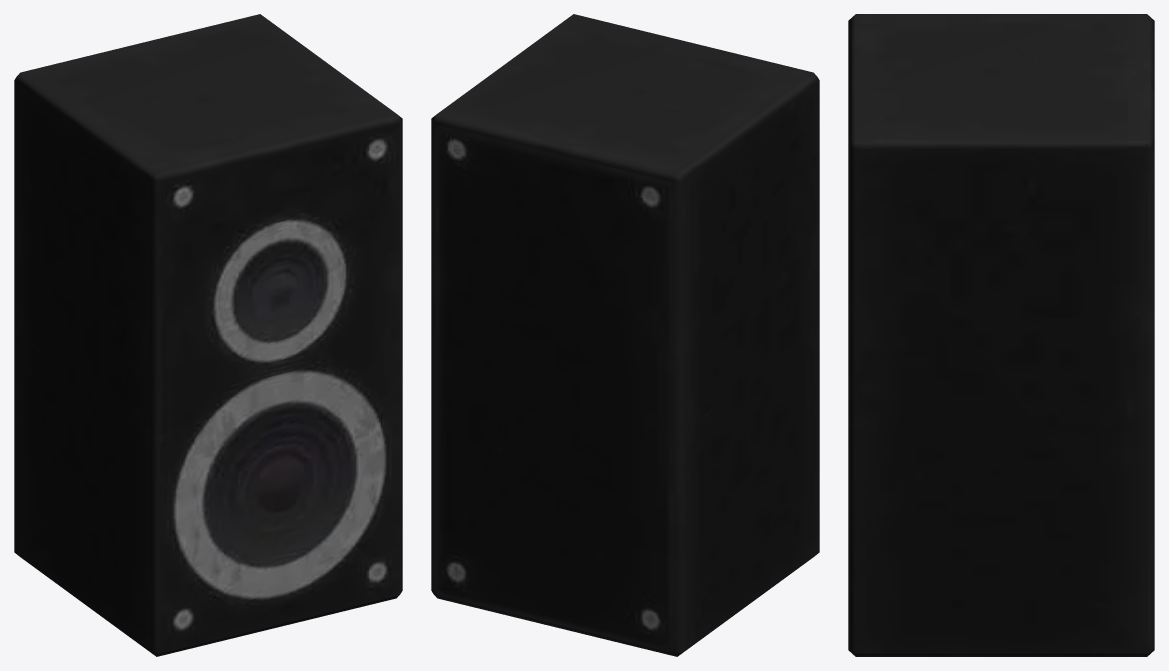
Rendered from audioalarm.glb.
3 views of the same model, side by side, from view 1: azimuth 30°, elevation 25°; view 2: azimuth 150°, elevation 25°; view 3: azimuth 270°, elevation 25° (orthographic). The views are drawn at different scales.
Parts seen in each view (by area): view 1: speaker; view 2: speaker; view 3: speaker.
Part boxes in pixels (x1,y1,x2,y2): speaker: [14, 14, 402, 656]; speaker: [431, 14, 819, 656]; speaker: [848, 14, 1154, 656].
Bounding box in the file's own units: 0.2042 × 0.375 × 0.2011.
1 material, 1 textured.
